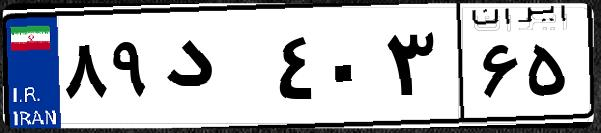0: (330, 28, 385, 110)
3: (385, 28, 445, 110)
4: (270, 28, 330, 110)
5: (525, 38, 570, 115)
6: (475, 38, 525, 113)
8: (57, 26, 110, 100)
9: (110, 28, 158, 98)
د: (158, 20, 270, 120)
